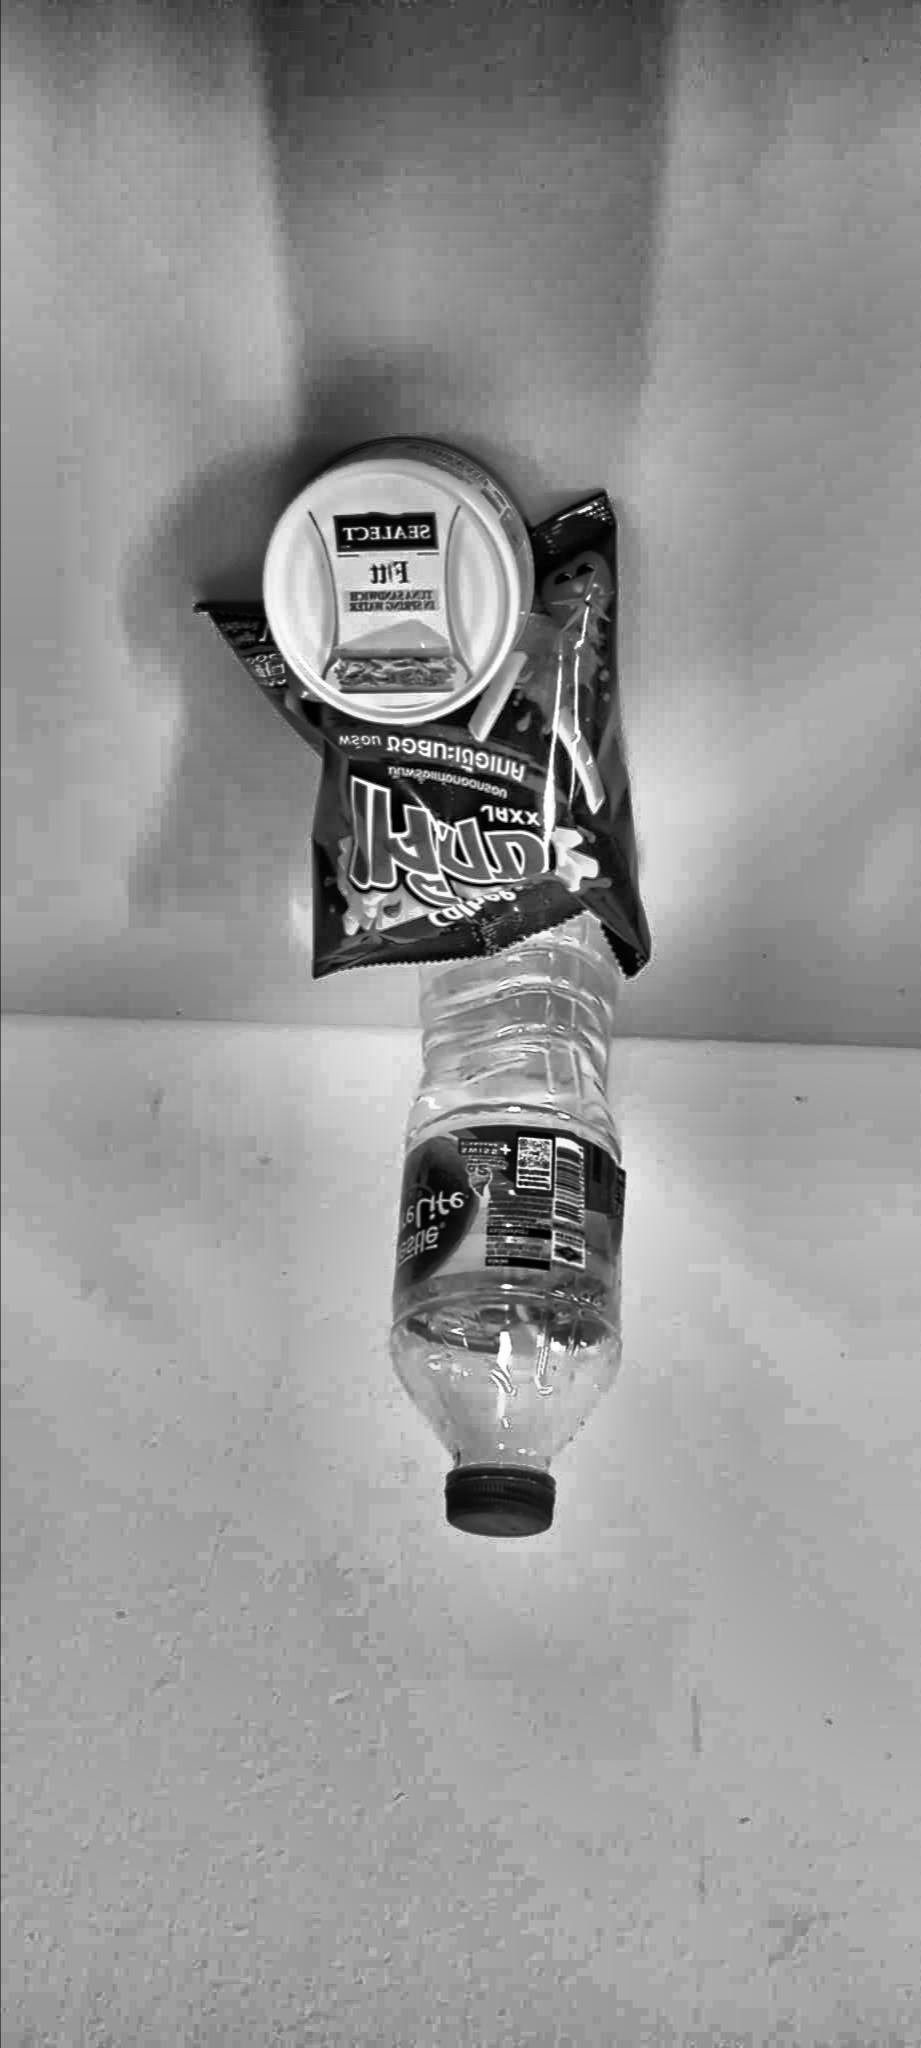can: (271, 410, 515, 742)
snackbag: (231, 462, 723, 997)
waterbottle: (336, 930, 695, 1577)
